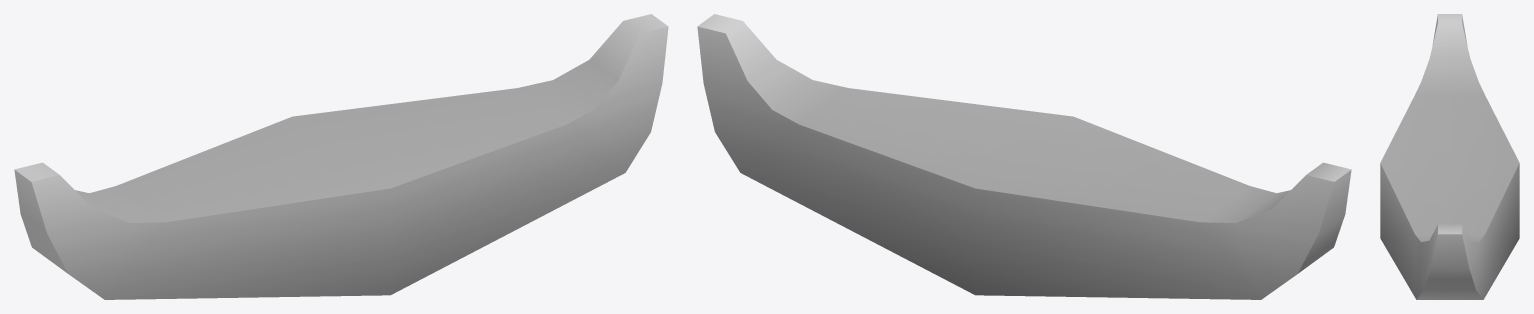
File: stone_guard_054.glb
The picture shows the model from 3 angles, left to right: view 1: azimuth 30°, elevation 25°; view 2: azimuth 150°, elevation 25°; view 3: azimuth 270°, elevation 25°; orthographic projection. The views are drawn at different scales.
Parts seen in each view (by area): view 1: stone_guard.054; view 2: stone_guard.054; view 3: stone_guard.054.
Part boxes in pixels (bbox=[...]): stone_guard.054: bbox=[14, 14, 668, 299]; stone_guard.054: bbox=[697, 14, 1351, 299]; stone_guard.054: bbox=[1380, 14, 1519, 299].
Size of the model in its own units: 7.36 by 1.78 by 1.97.
1 material, 1 textured.
